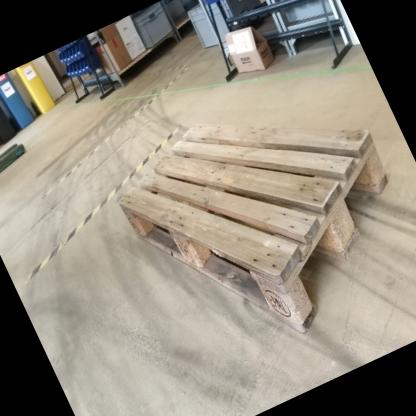BoxFace: (114, 116, 393, 344)
